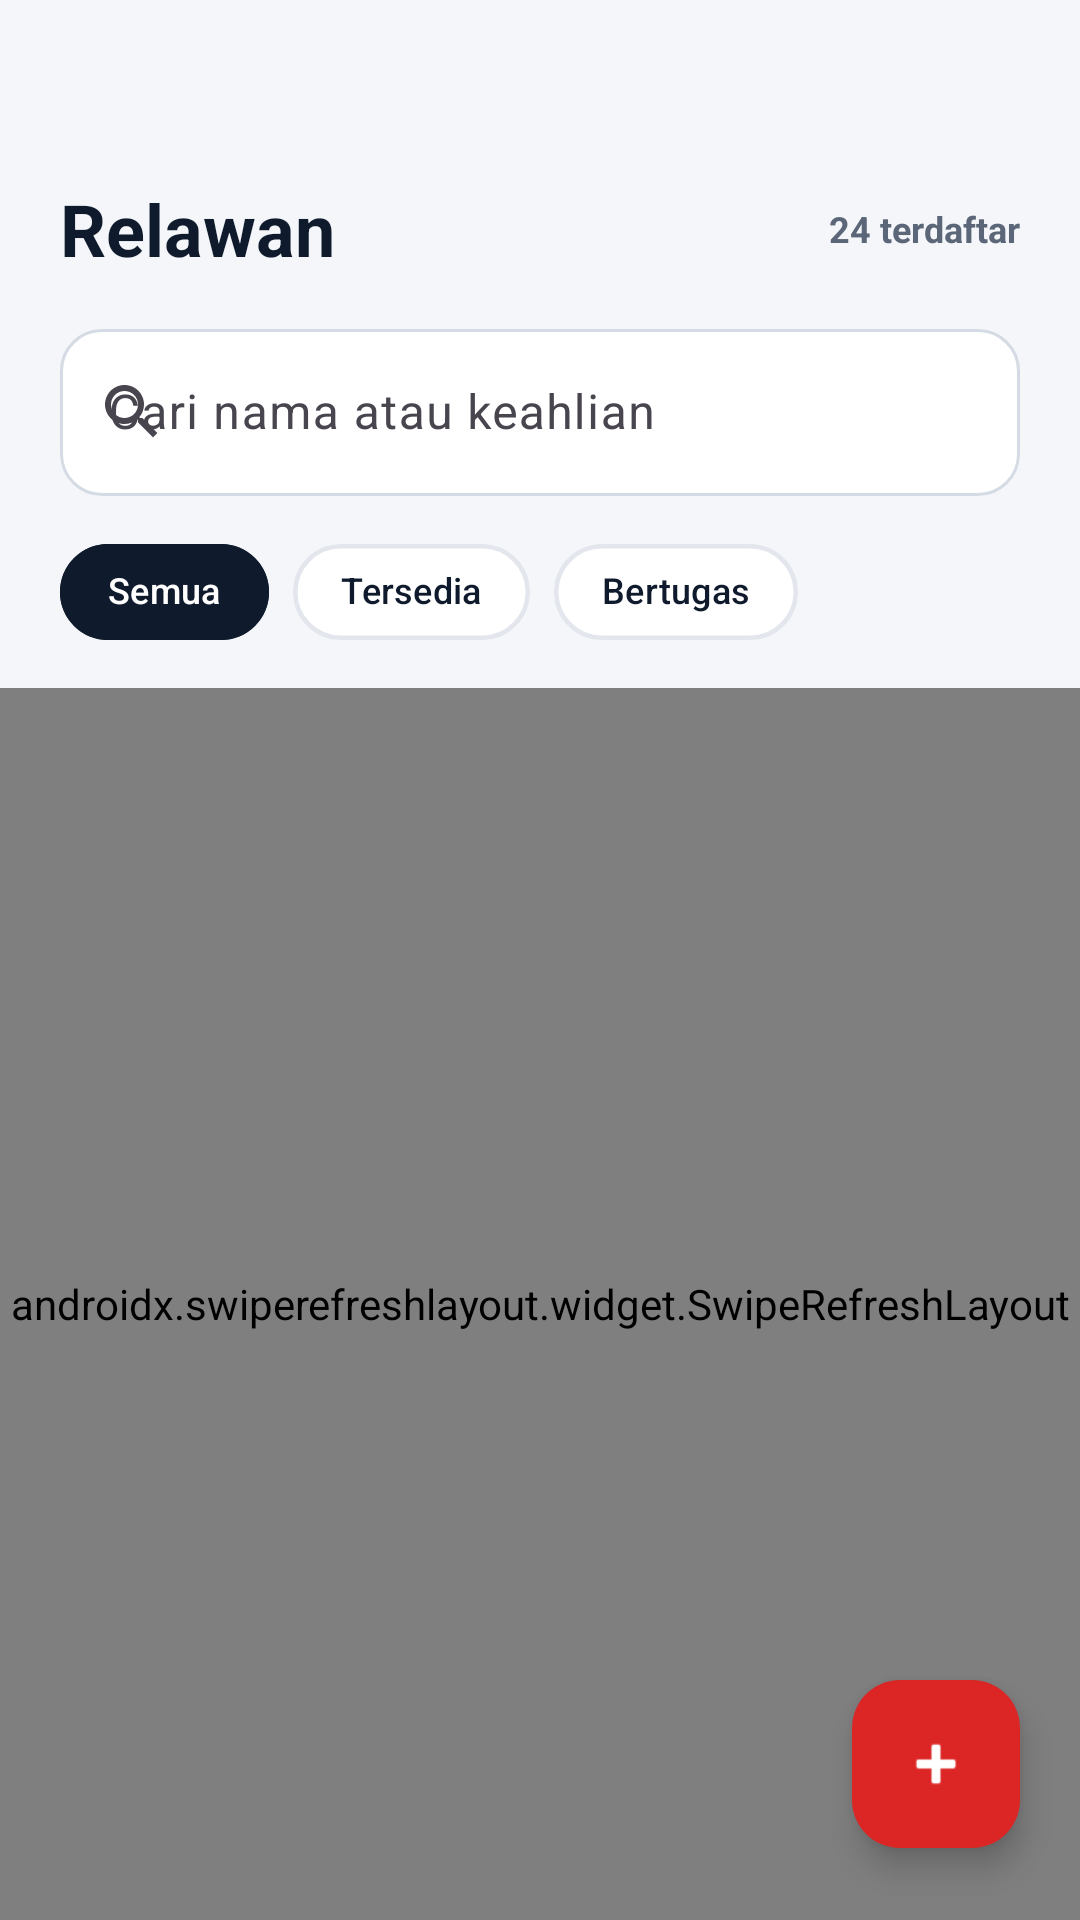

Where icons sit on this 1080 x 1920 app screen, as (x1, y1, x2, y2):
Tambah relawan: (852, 1680, 1020, 1848)
